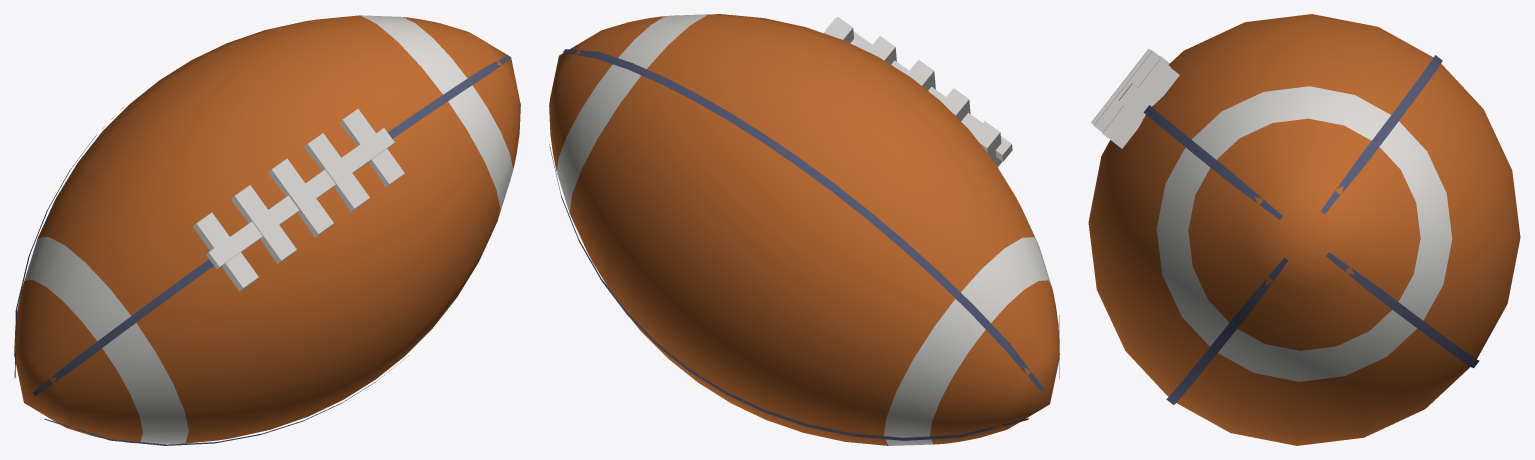
File: nfl.glb
3 renders of one model, left to right at view 1: azimuth 30°, elevation 25°; view 2: azimuth 150°, elevation 25°; view 3: azimuth 270°, elevation 25°, orthographic. The views are drawn at different scales.
Parts seen in each view (by area): view 1: nfl; view 2: nfl; view 3: nfl.
Part boxes in pixels (x1,y1,x2,y2): nfl: (14, 15, 520, 445); nfl: (549, 14, 1059, 445); nfl: (1088, 14, 1520, 445).
Bounding box in the file's own units: 1.84 × 1.3 × 1.2.
